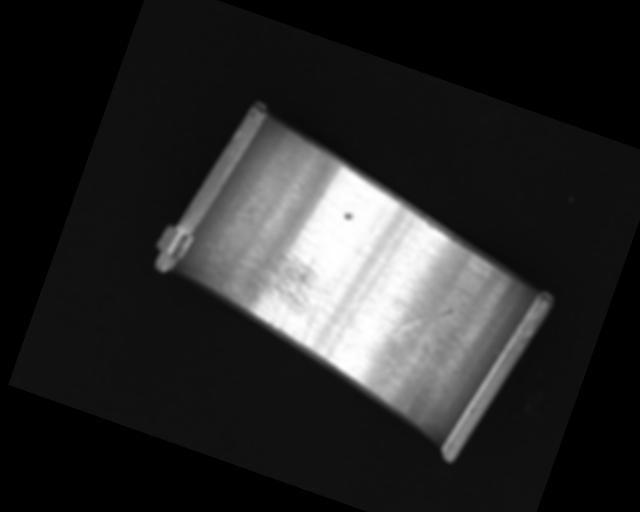bruise: (342, 211, 355, 222)
nick: (347, 202, 423, 323), (457, 268, 523, 362), (396, 293, 453, 349), (375, 330, 404, 386)
scratch: (207, 229, 343, 348)
